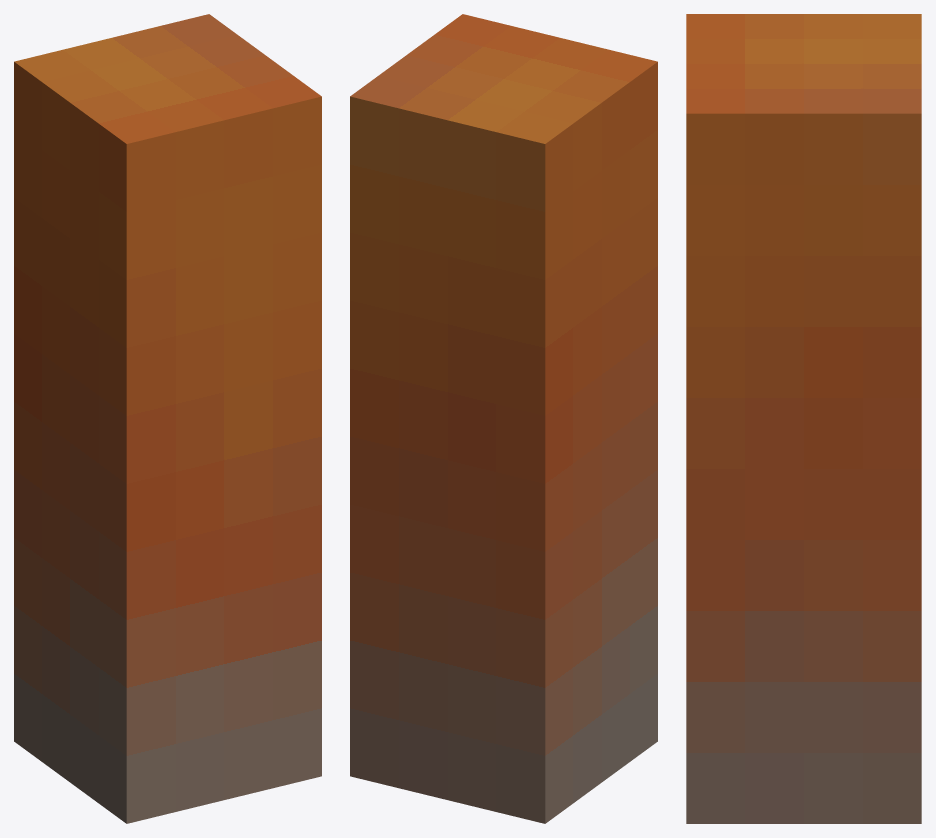
File: crystal_one.obj
3 renders of one model, left to right at view 1: azimuth 30°, elevation 25°; view 2: azimuth 150°, elevation 25°; view 3: azimuth 270°, elevation 25°, orthographic. The views are drawn at different scales.
Visible parts, largest first — view 1: Crystal5_Cube.008; view 2: Crystal5_Cube.008; view 3: Crystal5_Cube.008.
Part boxes in pixels (bbox=[...]): Crystal5_Cube.008: bbox=[14, 14, 321, 823]; Crystal5_Cube.008: bbox=[350, 14, 657, 823]; Crystal5_Cube.008: bbox=[686, 14, 921, 823].
Size of the model in its own units: 0.0763 by 0.2539 by 0.0763.
